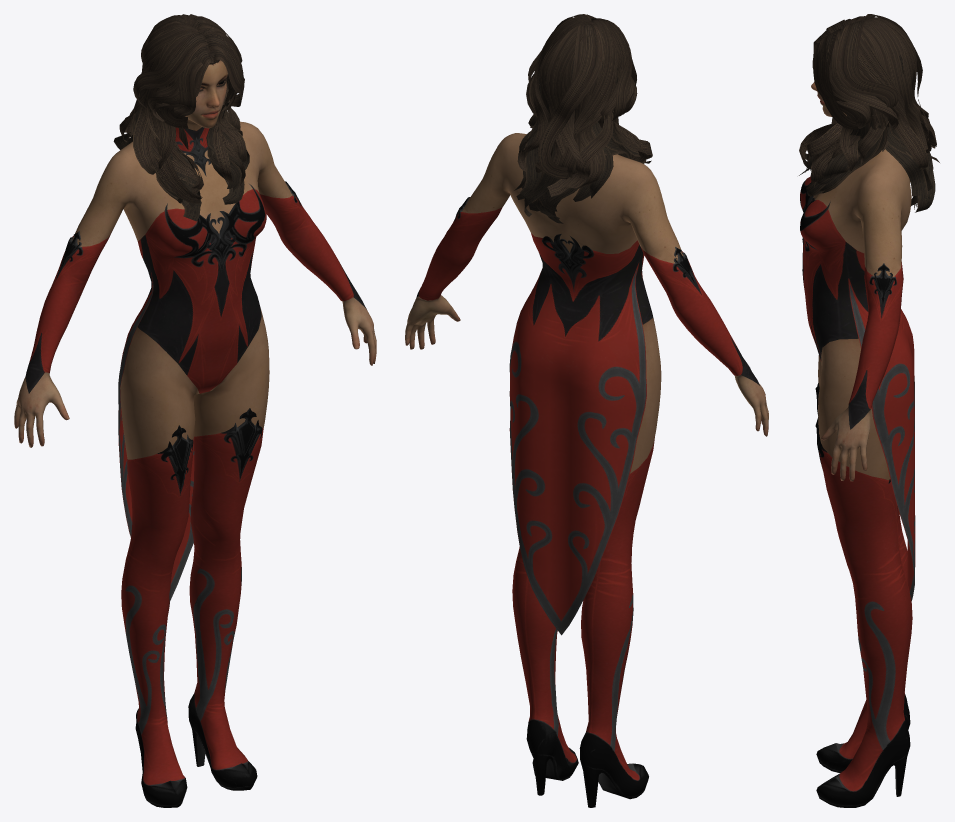
The model's file is Fantasy Girl.fbx.
The picture shows the model from 3 angles, left to right: view 1: azimuth 30°, elevation 25°; view 2: azimuth 150°, elevation 25°; view 3: azimuth 270°, elevation 25°; orthographic projection.
Visible parts, largest first — view 1: desirefx.me_002, desirefx.me_001, desirefx.me_004; view 2: desirefx.me_002, desirefx.me_004, desirefx.me_001; view 3: desirefx.me_002, desirefx.me_004, desirefx.me_001.
Part boxes in pixels (box(x1,y1,x2,y2)): desirefx.me_002: box(25, 127, 366, 807); desirefx.me_001: box(14, 60, 376, 459); desirefx.me_004: box(113, 14, 249, 221); desirefx.me_002: box(416, 197, 759, 807); desirefx.me_004: box(514, 14, 652, 223); desirefx.me_001: box(405, 133, 768, 473); desirefx.me_002: box(800, 176, 915, 807); desirefx.me_004: box(799, 14, 939, 212); desirefx.me_001: box(811, 82, 911, 481).
Bounding box in the file's own units: 1.86 × 3.81 × 0.6458.
